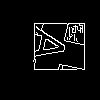A: (25, 25, 78, 68)
